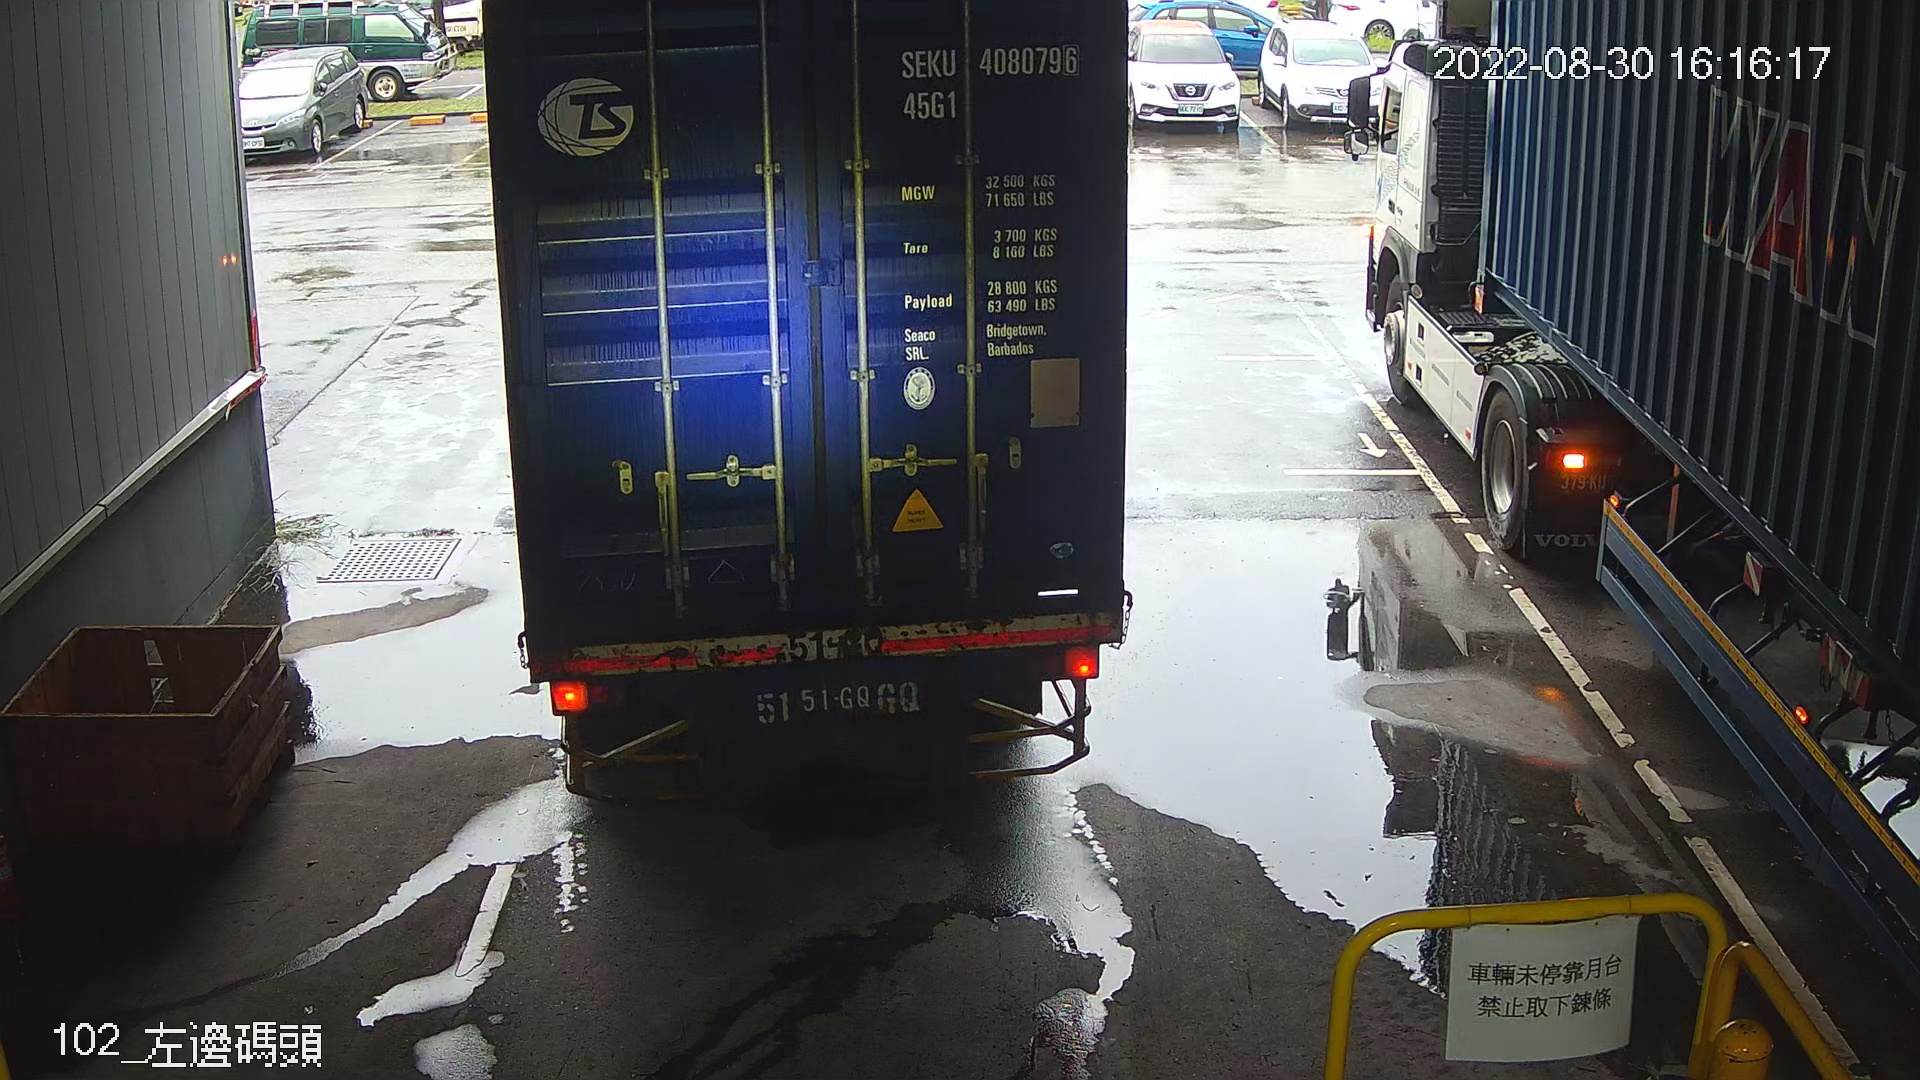container: (891, 36, 1088, 129)
